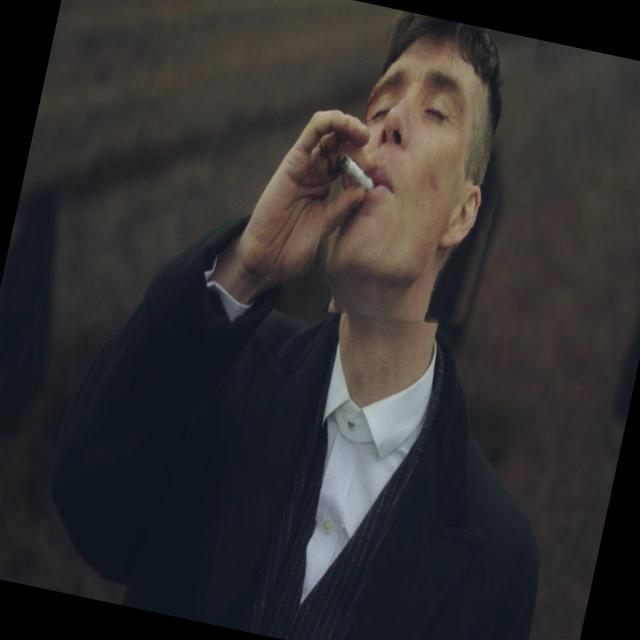cigarette: (330, 132, 400, 212)
